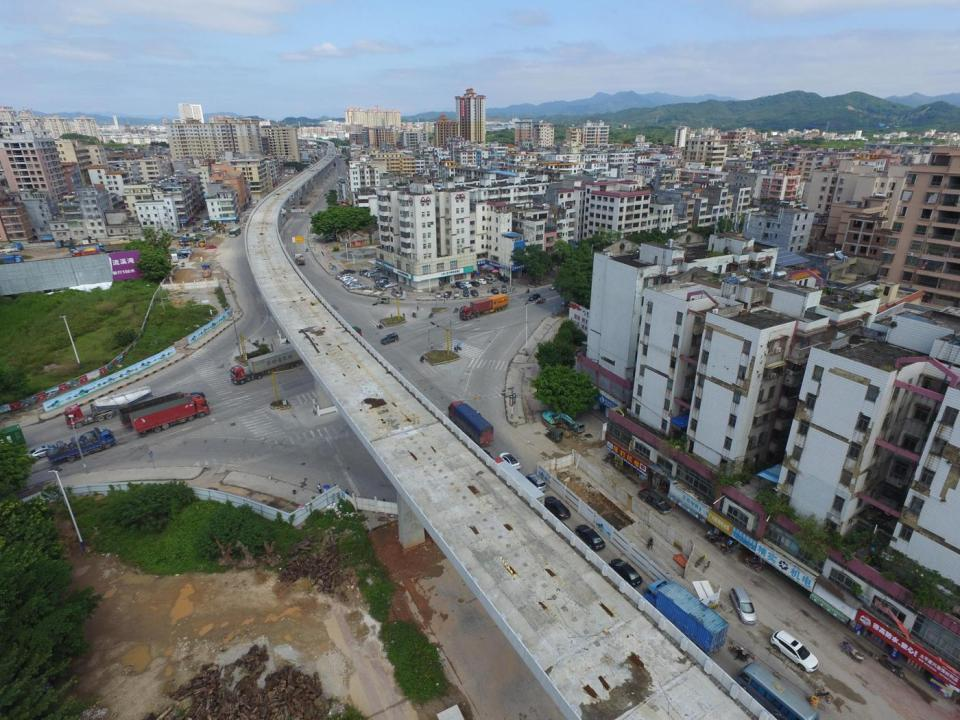bus: (229, 227, 241, 238)
car: (771, 630, 819, 673), (730, 586, 756, 625), (608, 559, 643, 586), (577, 524, 604, 549), (543, 497, 570, 518), (524, 472, 546, 493), (26, 445, 54, 460), (499, 452, 521, 470), (381, 333, 399, 344), (346, 279, 359, 286), (344, 276, 354, 284), (455, 281, 465, 289), (348, 284, 361, 290), (529, 294, 540, 301), (462, 281, 472, 288), (205, 244, 216, 250), (391, 290, 400, 297), (336, 274, 348, 279), (476, 279, 486, 285), (453, 290, 460, 298), (490, 288, 499, 294), (470, 280, 479, 286), (561, 300, 570, 306), (444, 291, 451, 298), (558, 285, 565, 292), (364, 270, 372, 276), (470, 290, 478, 296), (463, 288, 469, 296), (549, 285, 557, 291), (435, 292, 441, 298)
truck: (642, 576, 730, 654), (736, 661, 824, 720), (65, 386, 156, 430), (231, 341, 316, 386), (130, 394, 208, 436), (121, 391, 206, 426), (45, 428, 117, 466), (449, 402, 496, 448), (461, 293, 508, 321), (638, 488, 671, 514), (70, 242, 105, 254), (0, 252, 25, 265), (73, 248, 99, 258), (200, 263, 211, 277), (170, 254, 178, 262)
van: (568, 419, 584, 433), (377, 296, 388, 304), (340, 273, 352, 280), (483, 276, 493, 284), (488, 274, 497, 281), (501, 285, 508, 292), (360, 269, 368, 275)
